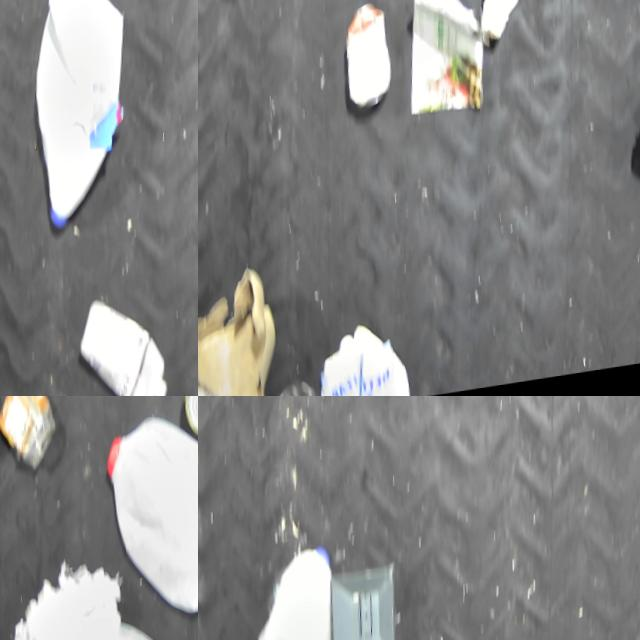can: (342, 0, 403, 123), (275, 376, 336, 396)
milk_jug: (26, 0, 139, 238), (101, 409, 198, 634), (257, 543, 349, 640)
